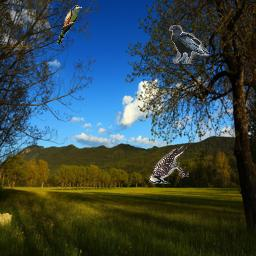Crow: (169, 25, 209, 64)
Cuckoo: (57, 5, 82, 45)
Woodpecker: (149, 145, 189, 184)
